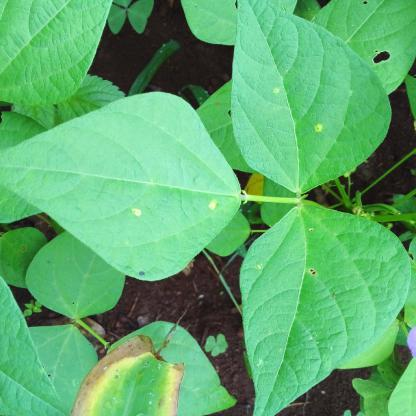Beans_Rust: (0, 92, 243, 279), (239, 199, 413, 416), (230, 6, 392, 191)
